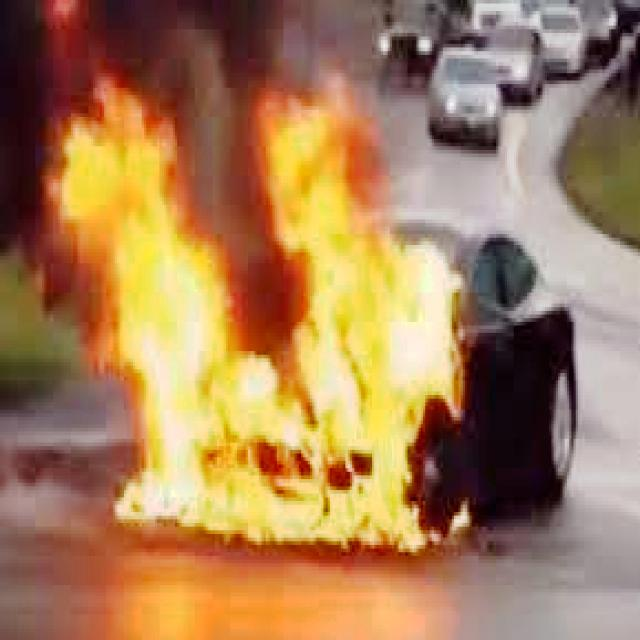api: (43, 60, 304, 572), (249, 74, 466, 524)
